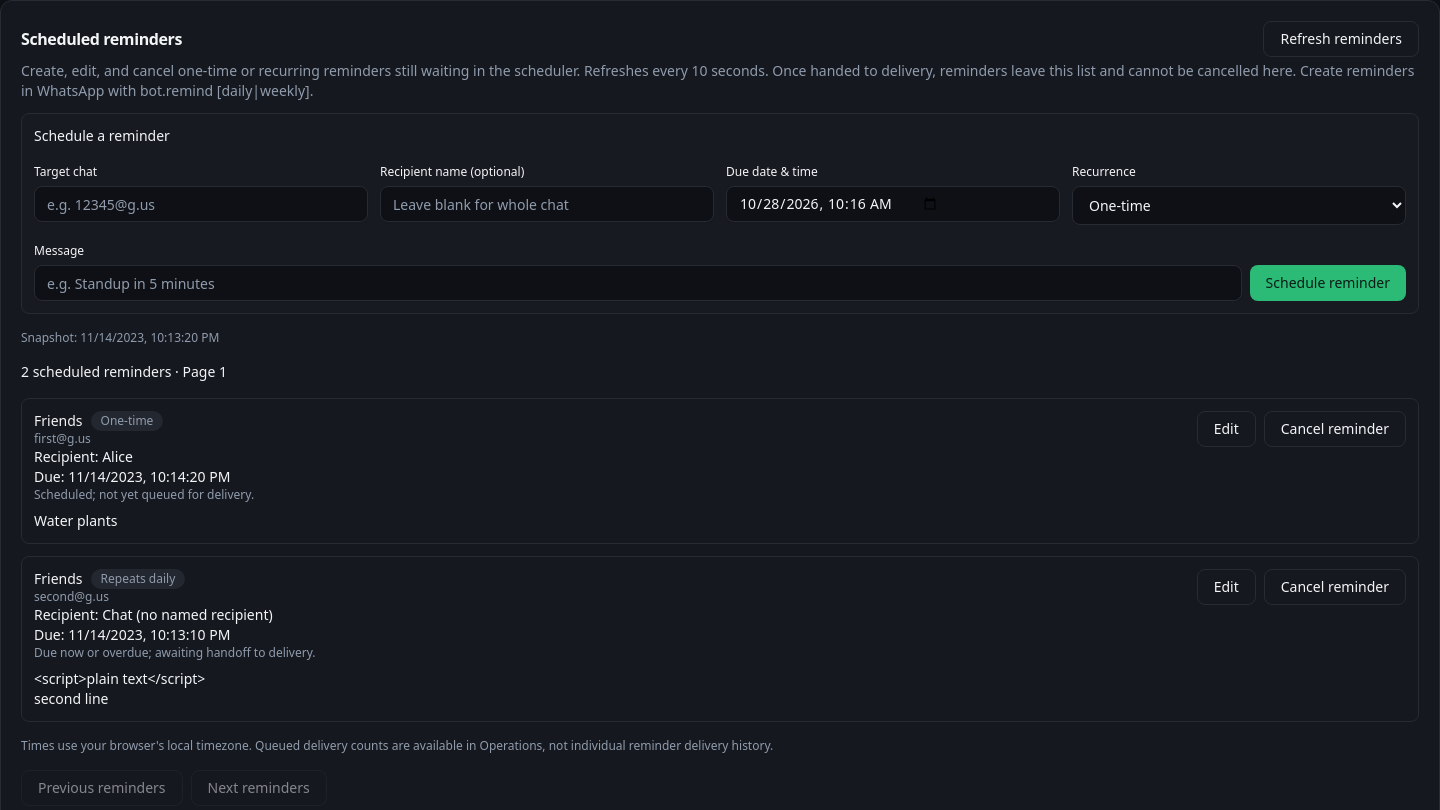
Scenario: scheduled reminders › keeps all actions disabled while cancellation is pending
The image size is (1440, 810).
Expected: the text "Water plants" is shown, [34, 511, 118, 530]
What coordinates should you click on to do the following:
click the button "Cancel reminder" in the row of "first@g.us"
I would click on:
 (1335, 429)
Its box is [1264, 411, 1406, 447].
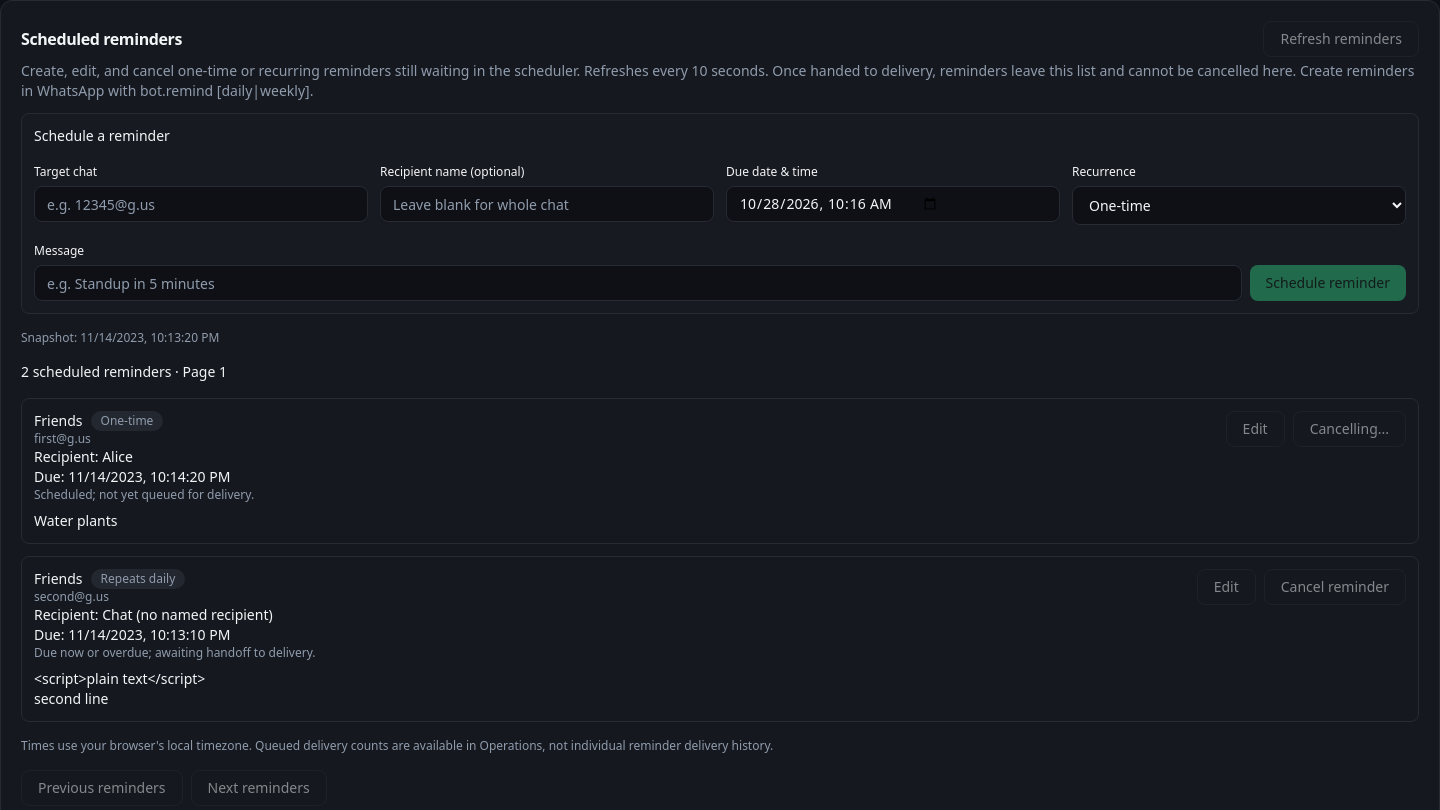
Expected: the button "Refresh reminders" is disabled, [1263, 21, 1419, 57]
